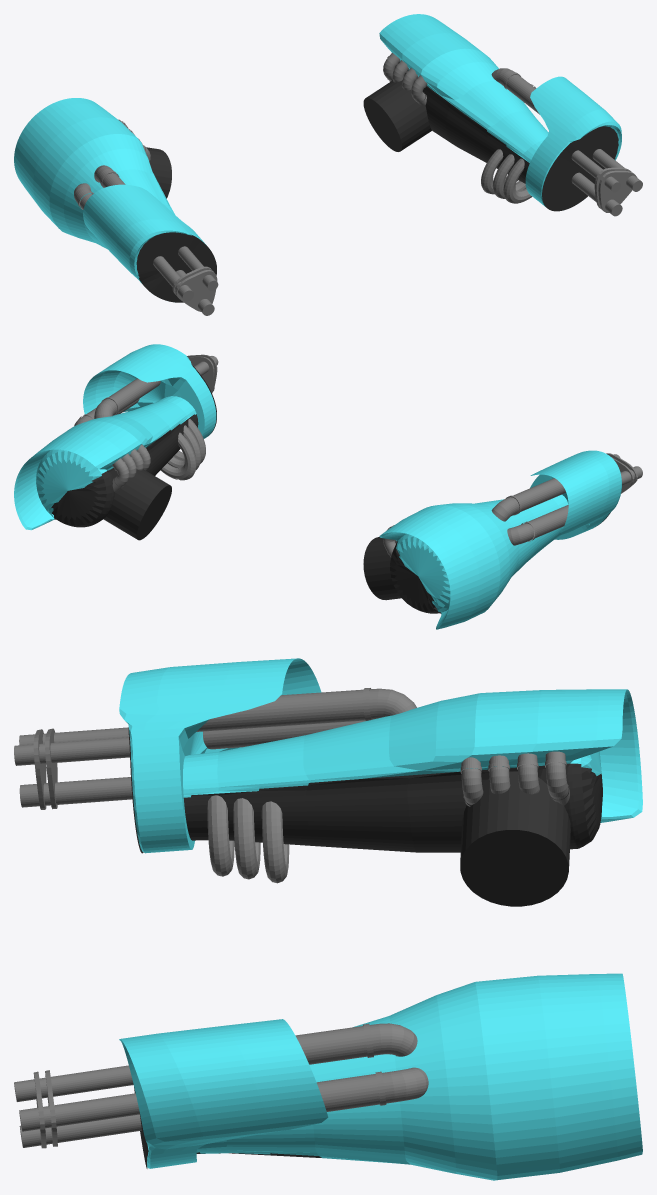
The model's file is MissileShip_Arms_Upper.fbx.
3 views of the same model, one above another, from view 1: azimuth 30°, elevation 25°; view 2: azimuth 150°, elevation 25°; view 3: azimuth 270°, elevation 25° (orthographic). The views are drawn at different scales.
Visible parts, largest first — view 1: Cylinder.032, Cylinder.000, Cylinder.037, Cylinder.036, Cylinder.035, Cylinder.038, Cylinder.033, Cylinder.034; view 2: Cylinder.032, Cylinder.000, Cylinder.033, Cylinder.038, Cylinder.035, Cylinder.034, Cylinder.036; view 3: Cylinder.032, Cylinder.000, Cylinder.038, Cylinder.033, Cylinder.036, Cylinder.035, Cylinder.034.
Boxes of the visible parts, x1,y1,x2,y2 form: Cylinder.032: (14, 14, 548, 249); Cylinder.000: (83, 76, 621, 283); Cylinder.037: (136, 126, 618, 302); Cylinder.036: (153, 149, 642, 315); Cylinder.035: (146, 74, 431, 198); Cylinder.038: (395, 62, 529, 183); Cylinder.033: (74, 53, 539, 209); Cylinder.034: (481, 149, 532, 203); Cylinder.032: (14, 396, 568, 629); Cylinder.000: (83, 344, 621, 539); Cylinder.033: (74, 378, 568, 557); Cylinder.038: (51, 414, 441, 613); Cylinder.035: (103, 469, 401, 600); Cylinder.034: (160, 419, 205, 480); Cylinder.036: (187, 354, 642, 493); Cylinder.032: (183, 689, 642, 1180); Cylinder.000: (119, 658, 328, 1168); Cylinder.038: (183, 763, 602, 1157); Cylinder.033: (196, 688, 569, 1111); Cylinder.036: (14, 727, 141, 1148); Cylinder.035: (460, 771, 570, 906); Cylinder.034: (207, 795, 289, 883).
Size of the model in its own units: 364 by 70.97 by 236.
